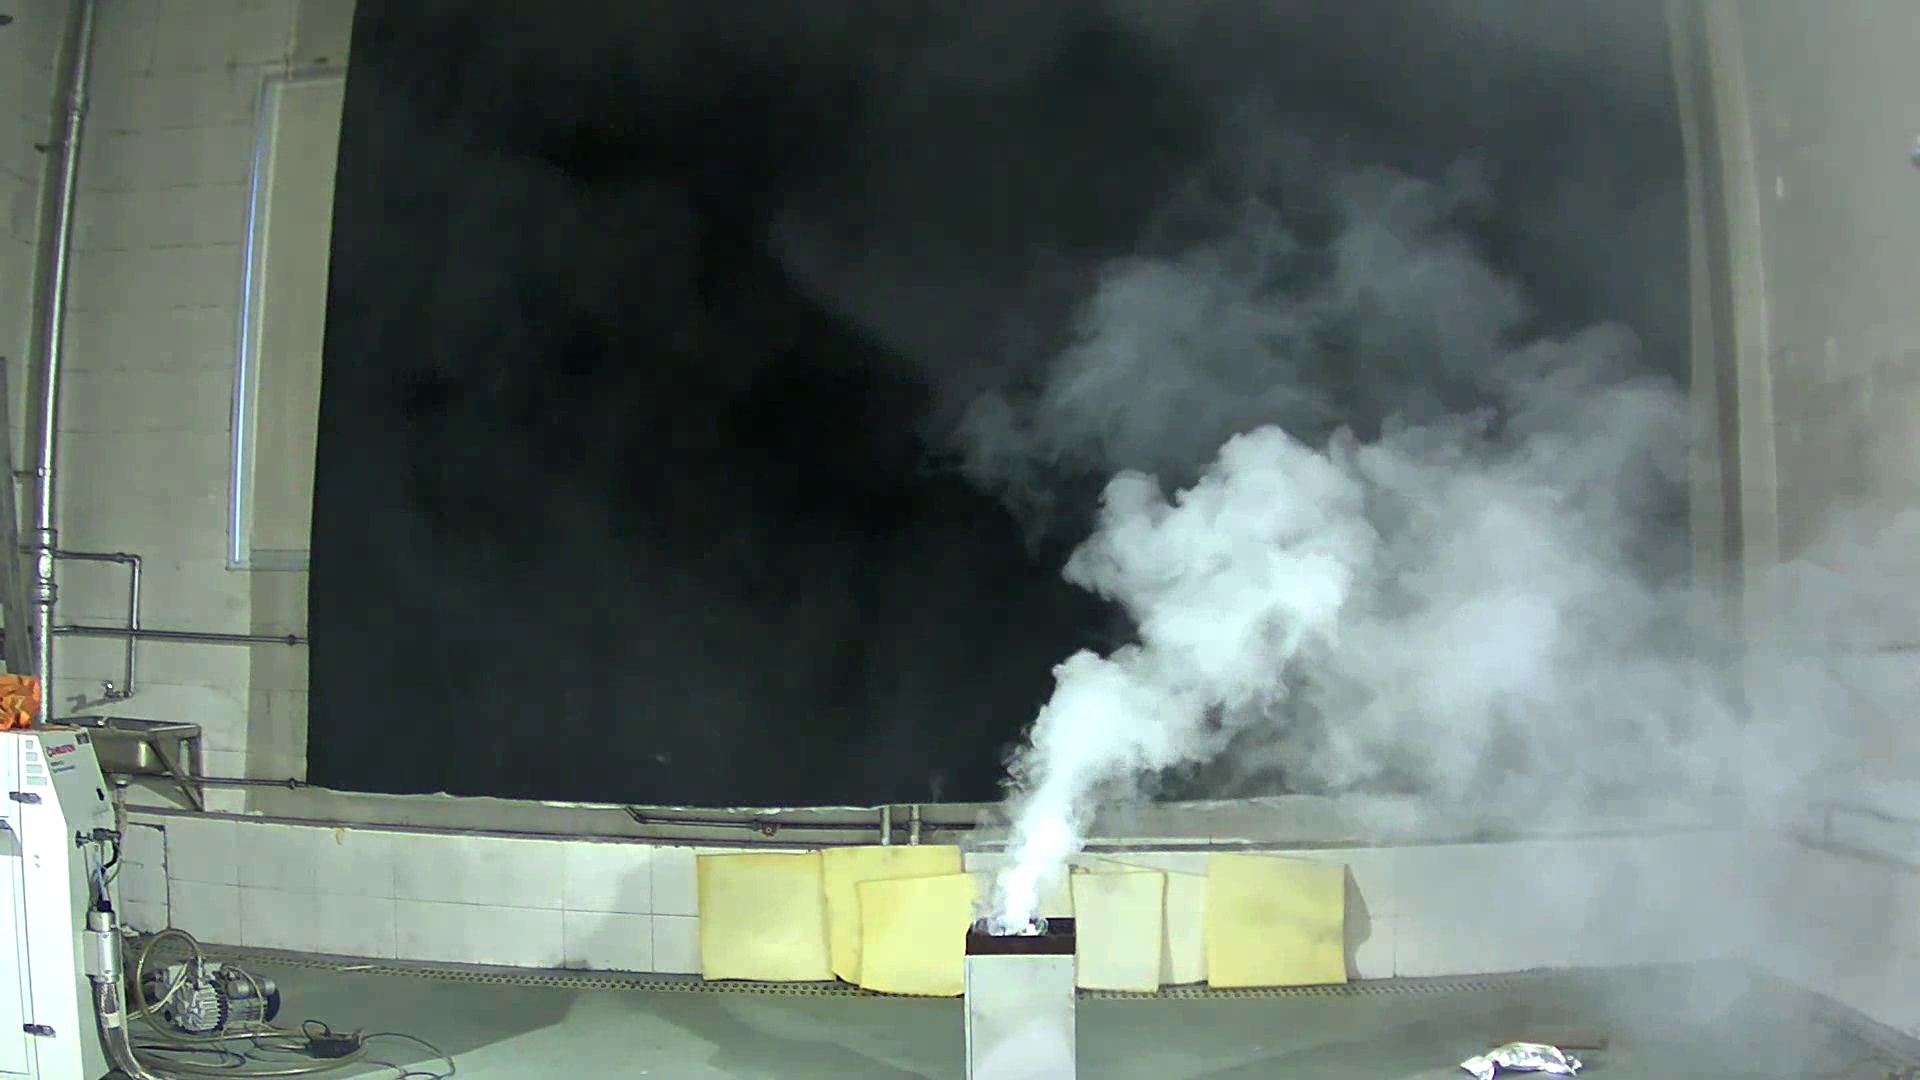smoke: (902, 225, 1712, 936)
